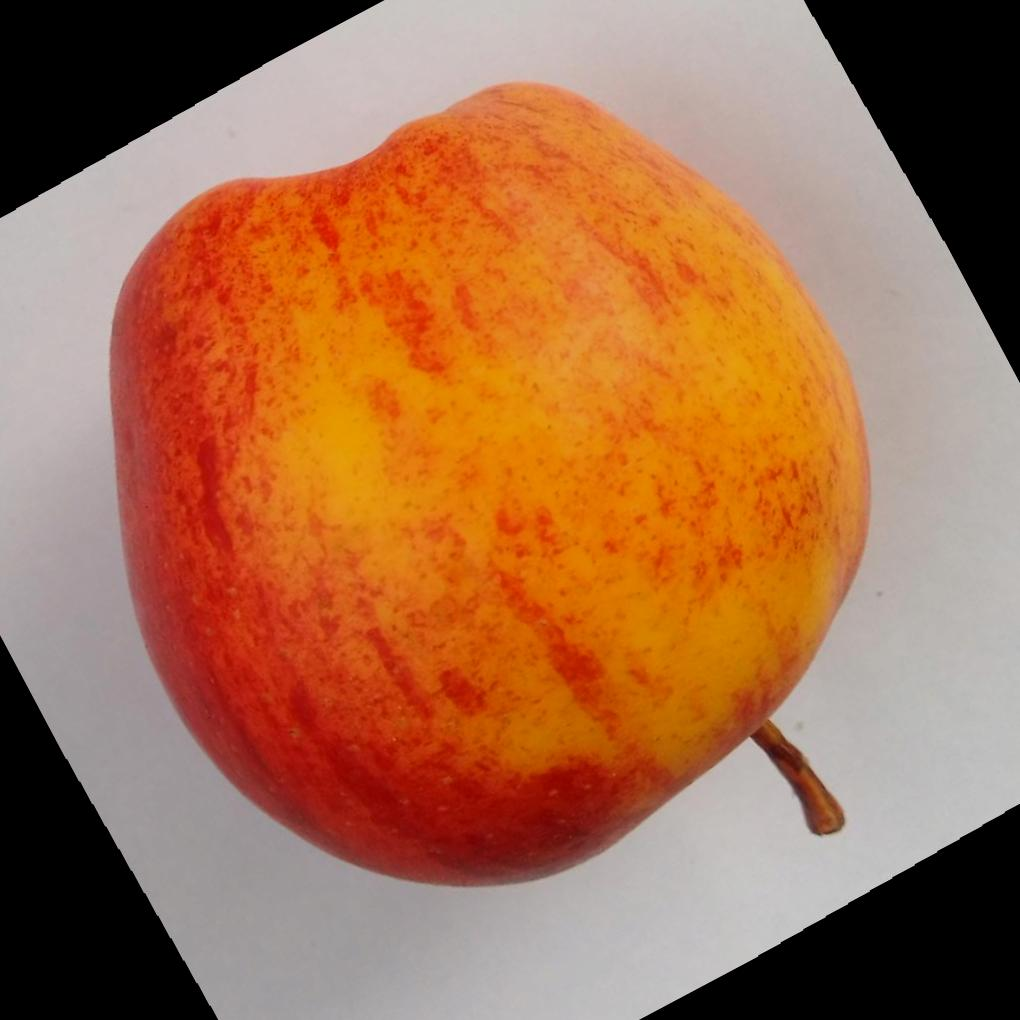FreshGuava: (103, 79, 870, 889)
